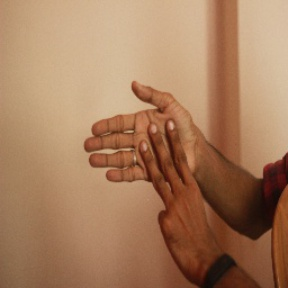M: (81, 77, 205, 220)
